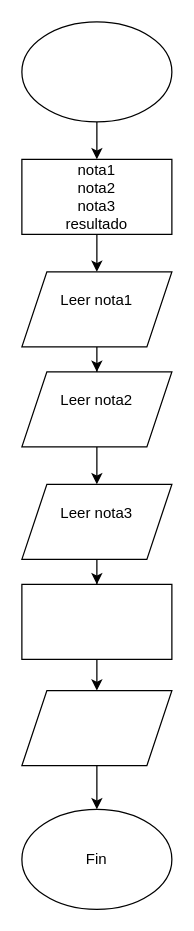
Image size: 194x931. Some labels were removed from this diagram. Each missing label, with the centre of its shape:
"Inicio" belongs at point 96,71.
"Mostrar resultado" belongs at point 96,727.
"resultado = (nota1*0,2) + (nota2*0,5) + (nota3*0,3)" belongs at point 96,621.
